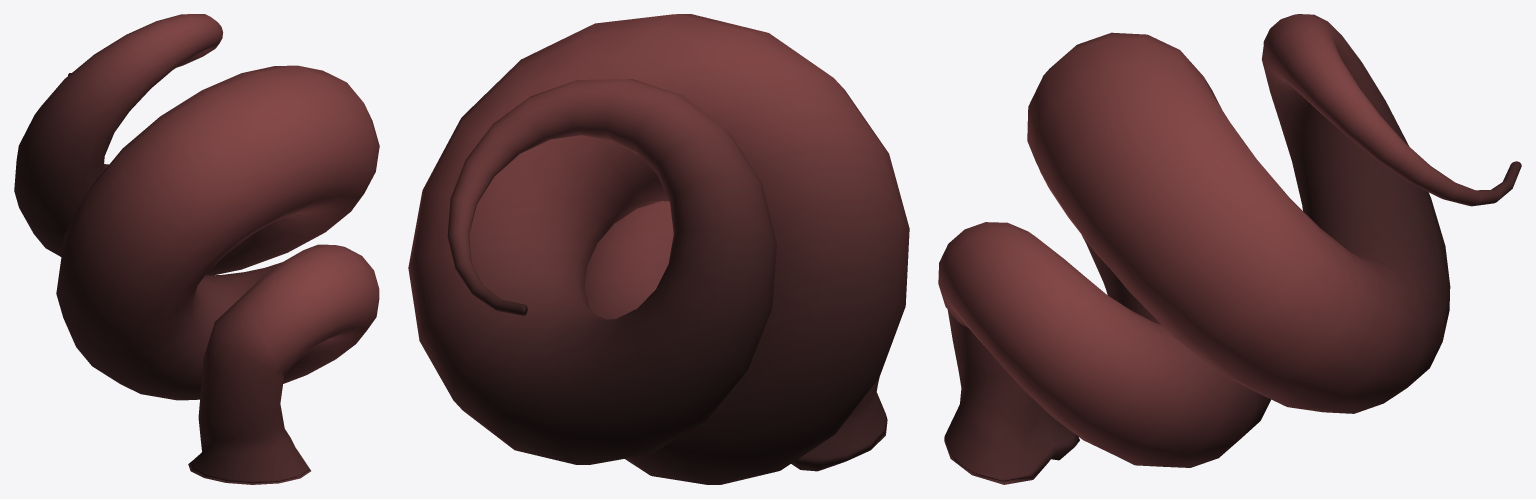
Rendered from spiral.glb.
3 renders of one model, left to right at view 1: azimuth 30°, elevation 25°; view 2: azimuth 150°, elevation 25°; view 3: azimuth 270°, elevation 25°, orthographic. The views are drawn at different scales.
Visible parts, largest first — view 1: t_spiral6; view 2: t_spiral6; view 3: t_spiral6.
Part boxes in pixels (x1,y1,x2,y2): t_spiral6: [14, 14, 379, 484]; t_spiral6: [408, 14, 909, 484]; t_spiral6: [938, 14, 1521, 484].
Bounding box in the file's own units: 0.0593 × 0.0632 × 0.074.
1 material, 1 textured.
